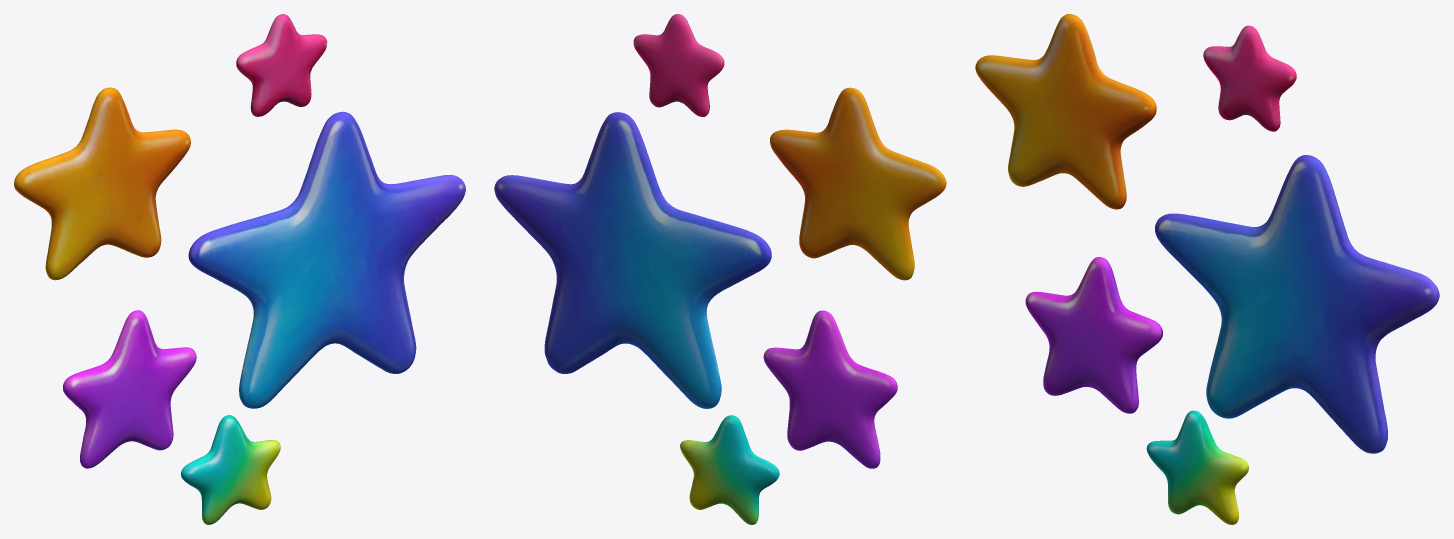
File: stars__main__r2__p1.glb
3 views of the same model, side by side, from view 1: azimuth 30°, elevation 25°; view 2: azimuth 150°, elevation 25°; view 3: azimuth 330°, elevation 25° (orthographic). The views are drawn at different scales.
Parts seen in each view (by area): view 1: model; view 2: model; view 3: model.
Part boxes in pixels (<box>): model: <box>14,14,465,524</box>; model: <box>494,14,946,524</box>; model: <box>975,14,1439,524</box>.
Bounding box in the file's own units: 1.63 × 1.7 × 0.0747.
Materials: 1 (1 with a texture image).
